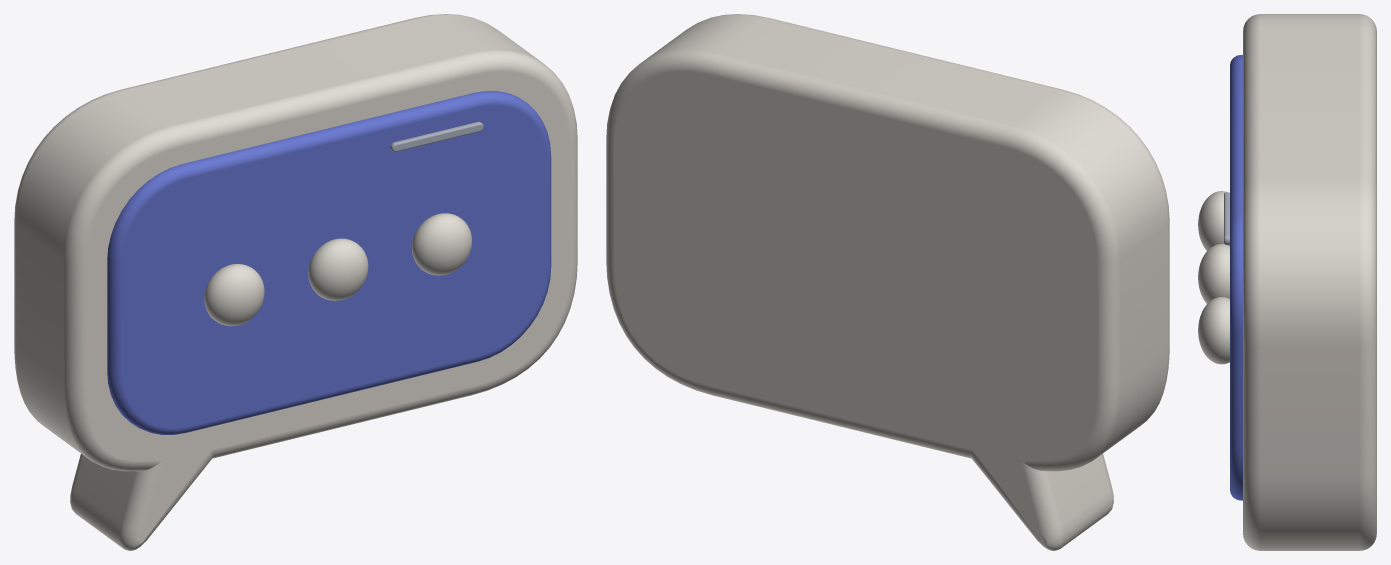
File: chat.glb
The picture shows the model from 3 angles, left to right: view 1: azimuth 30°, elevation 25°; view 2: azimuth 150°, elevation 25°; view 3: azimuth 270°, elevation 25°; orthographic projection. The views are drawn at different scales.
Visible parts, largest first — view 1: chat; view 2: chat; view 3: chat.
Boxes of the visible parts, x1,y1,x2,y2 form: chat: [14, 14, 577, 550]; chat: [606, 14, 1169, 550]; chat: [1198, 14, 1376, 550].
Size of the model in its own units: 2.12 by 1.64 by 0.6142.
